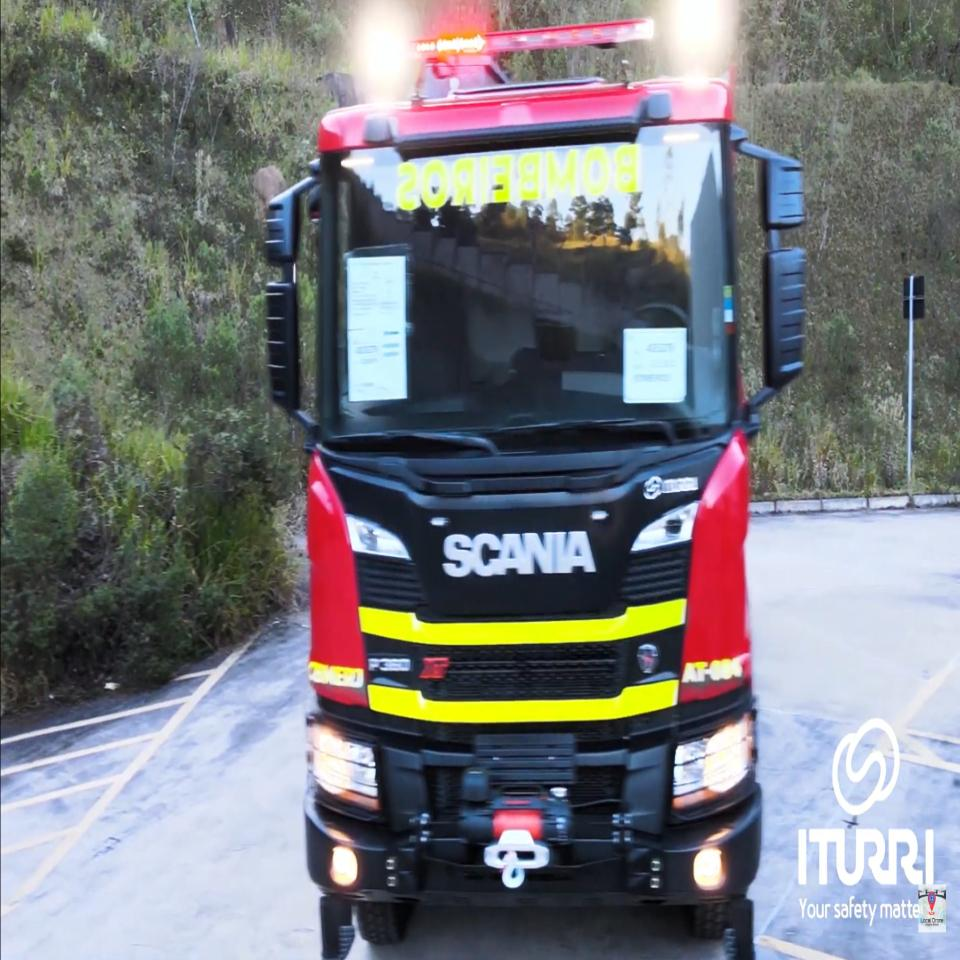viatura: (267, 16, 809, 960)
